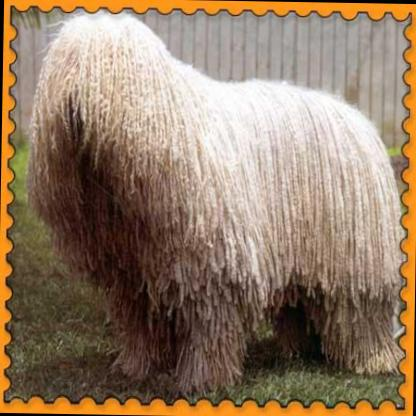komondor: (20, 7, 406, 400)
